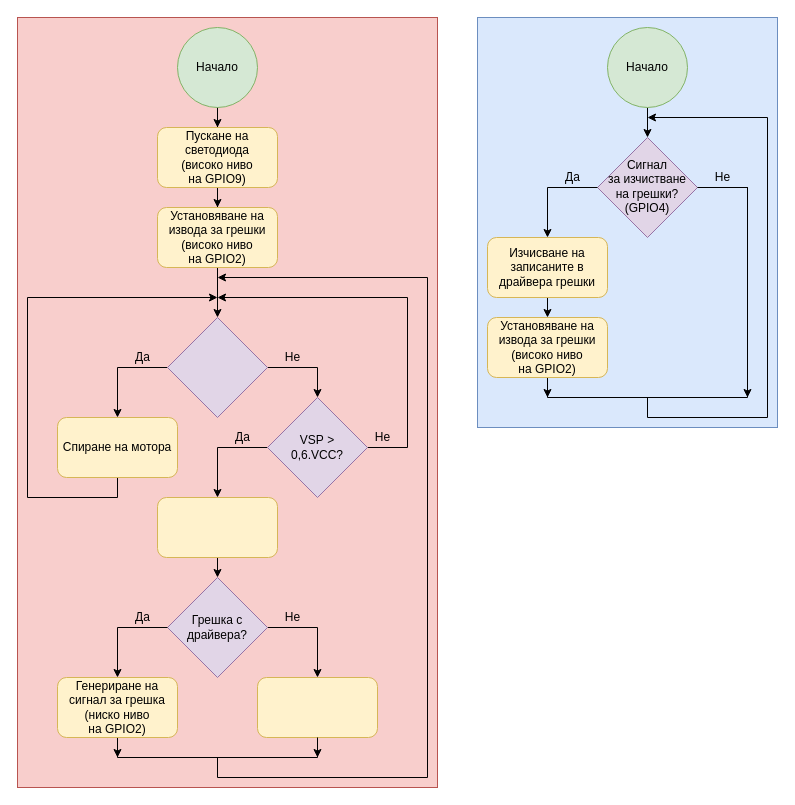
The diagram is 795 pixels wide and 805 high, and some of its shapes have lost their labels. Here are the shapes that lost their labels. From the top down, the box of each, then its label:
(476, 16, 778, 428): Нисък приоритет
(166, 316, 268, 418): VSP ≤ 0,2.VCC ?
(16, 16, 438, 788): Висок приоритет
(156, 496, 278, 558): Задаване на желаната скорост на въртене
(256, 676, 378, 738): Пускане на мотора
